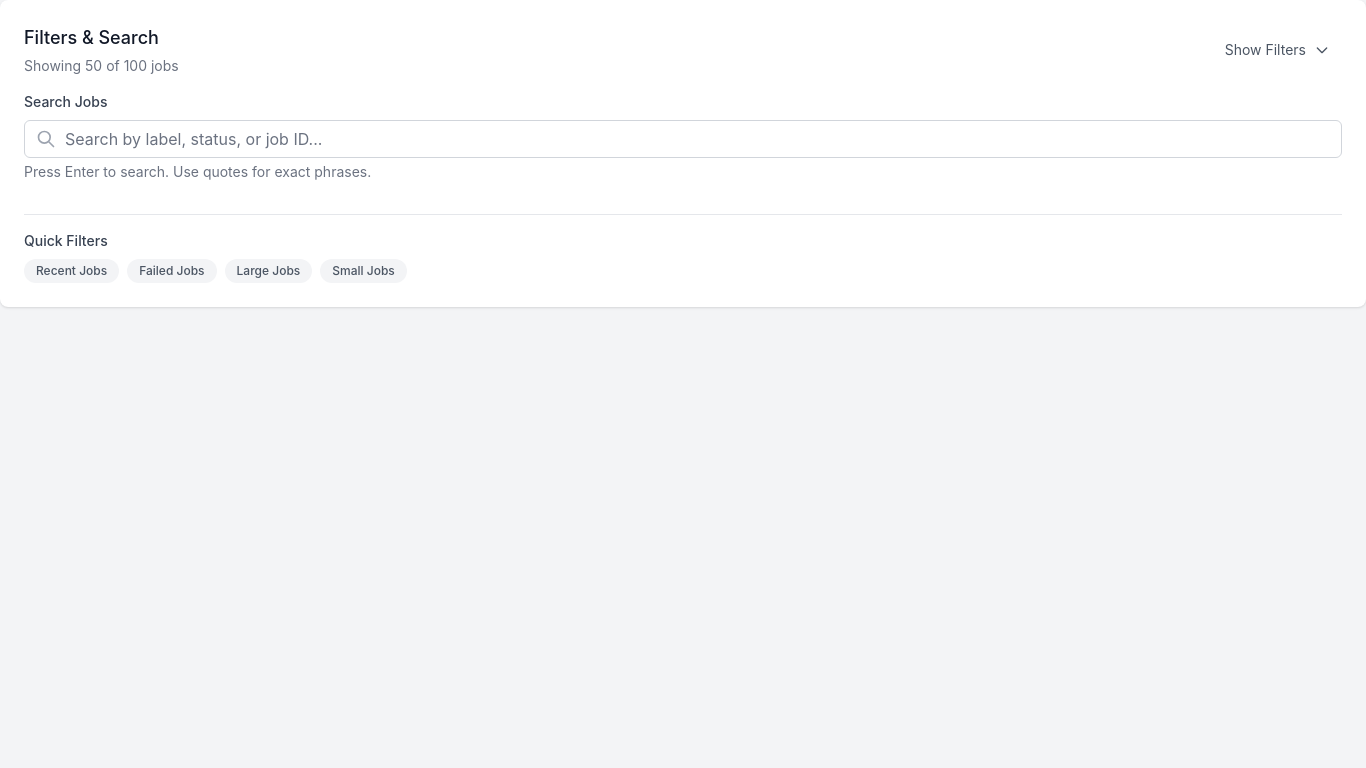
JobFilters › renders status filter with correct options
// Expand filters first
Click the button "Show Filters".
click(1277, 50)  # box [1213,32,1342,68]
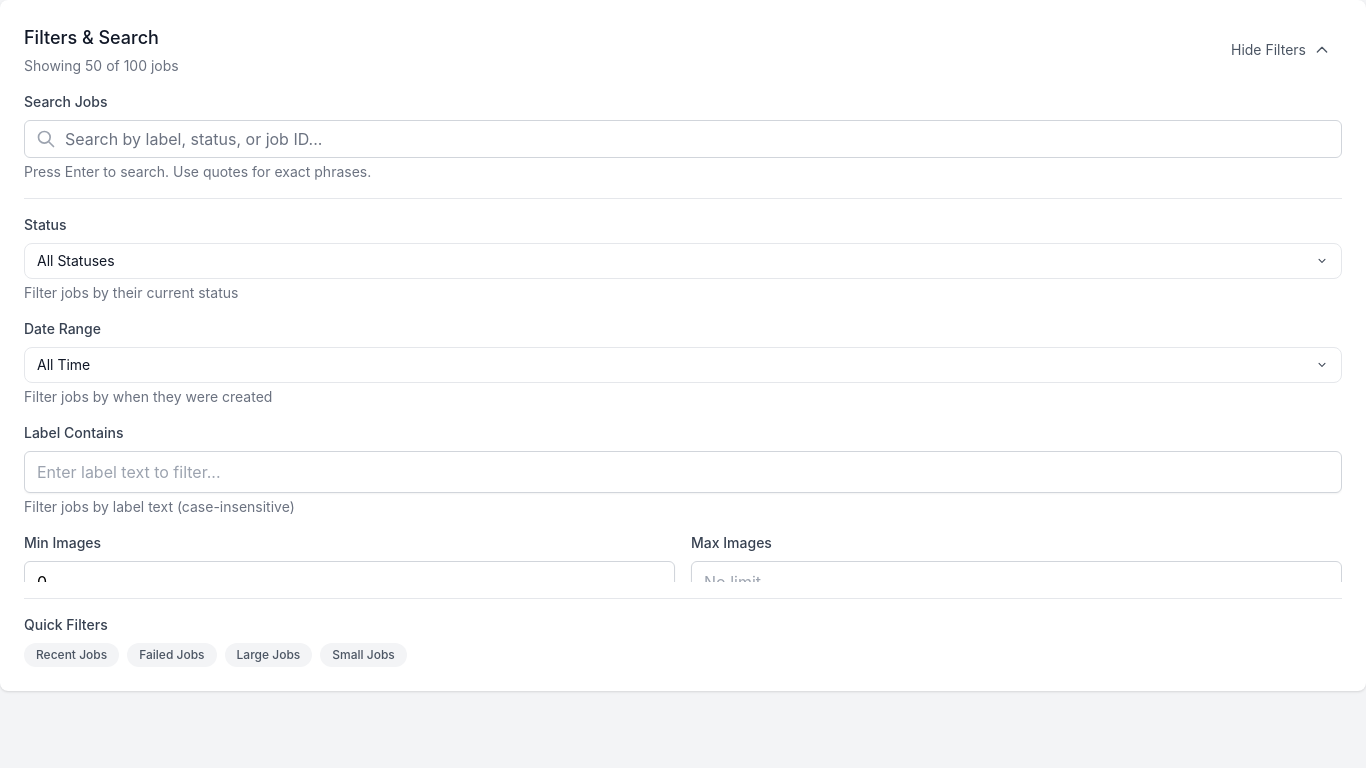
Expected: the dropdown labelled "Status" is shown, [24,243,1342,279]
